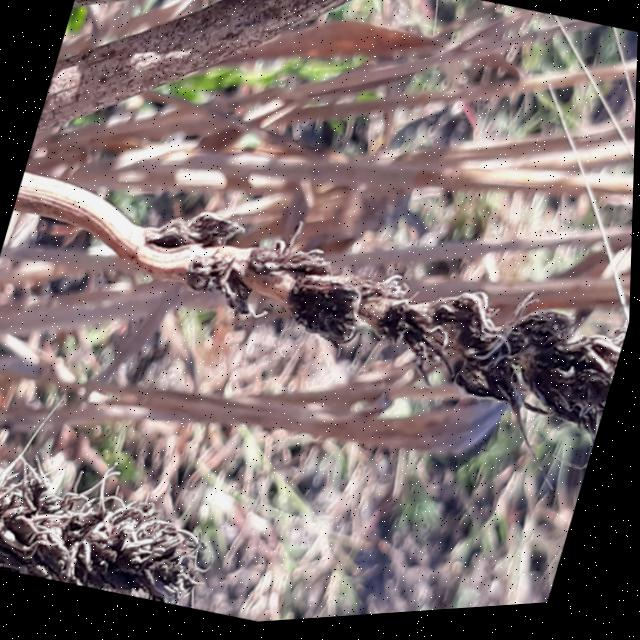loose_charred: (37, 129, 636, 539), (32, 0, 401, 221), (0, 407, 254, 627)
